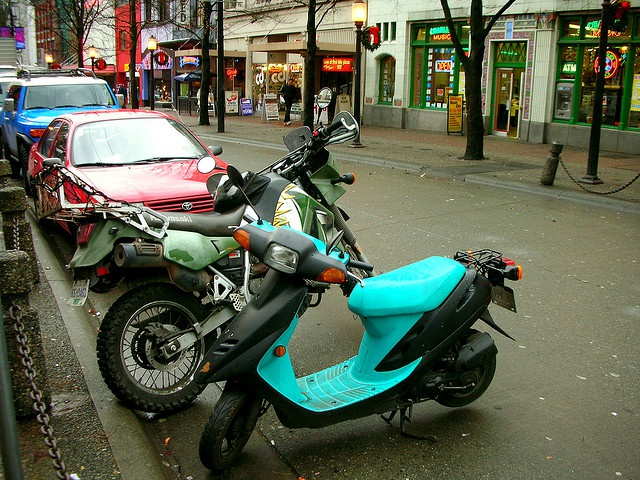non-vehicle: (32, 86, 368, 411), (199, 216, 525, 471)
